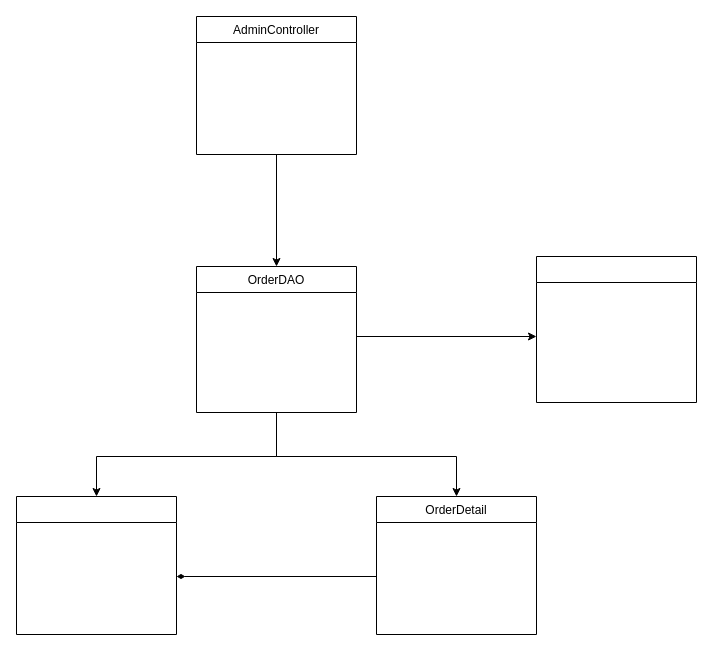
Image size: 713x651. Some labels were removed from this diagram. Here are the shapes that lost their labels. From the top down, the box of each, then its label:
(536, 256, 696, 402): OrderManagerDAO
(16, 496, 176, 634): Order
